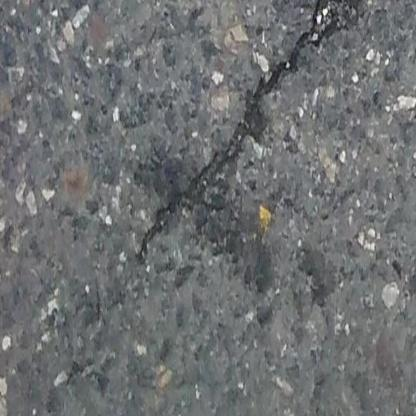Cracks: (142, 0, 383, 251)
